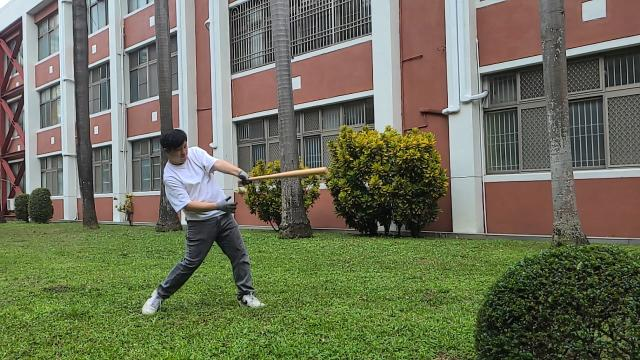baseball bat: (246, 164, 332, 182)
